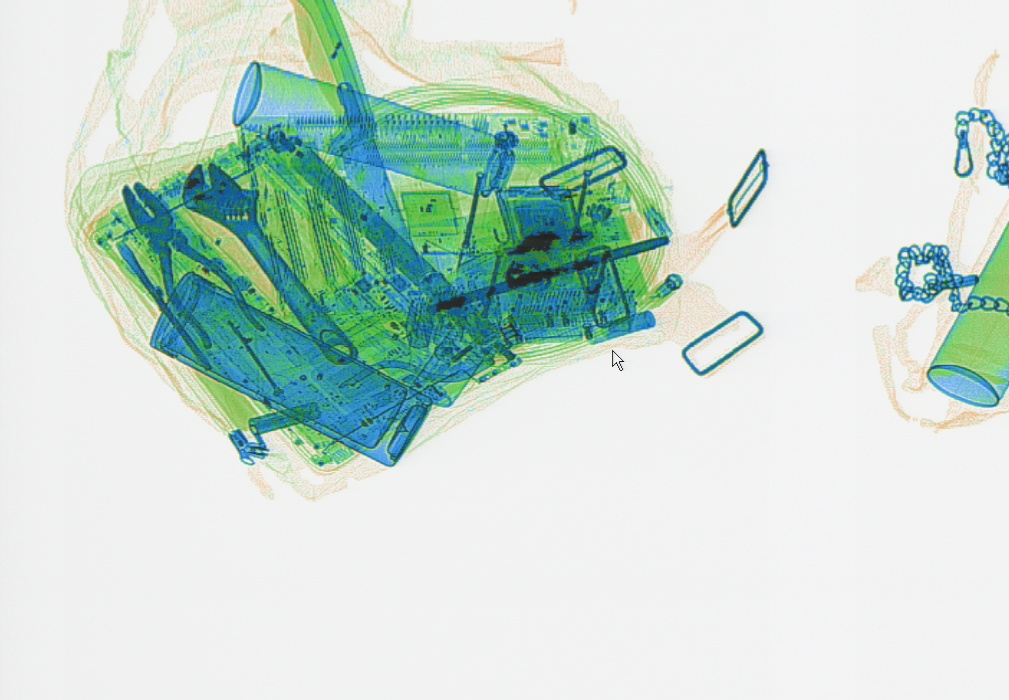knife: (293, 0, 422, 274)
pressure: (231, 60, 514, 197), (924, 222, 1007, 405)
